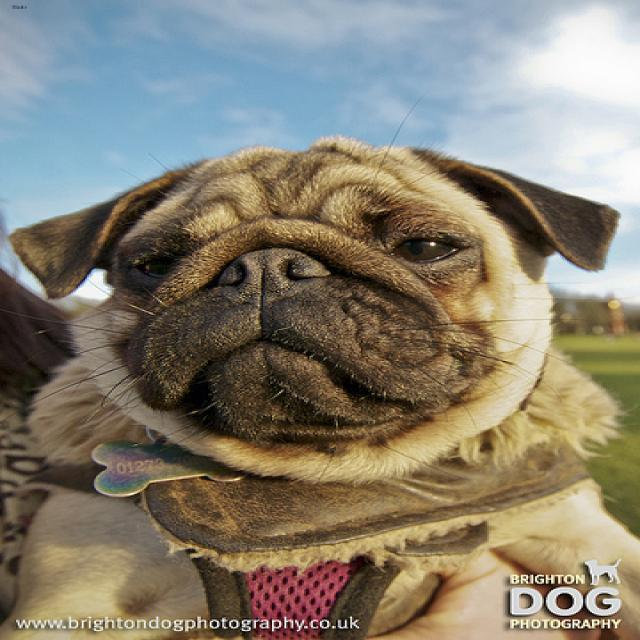dog-pug: (2, 123, 631, 489)
